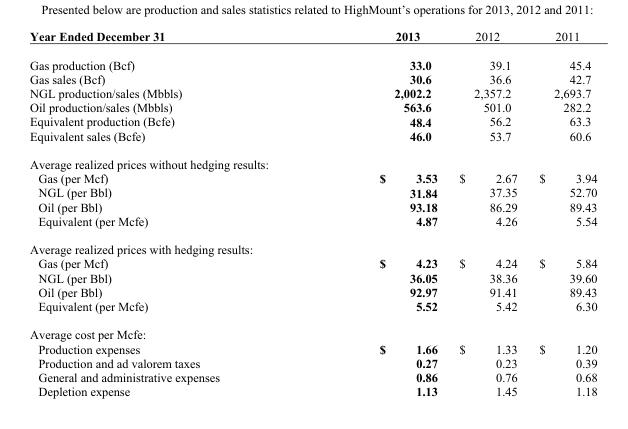table: (29, 28, 596, 397)
table column: (29, 28, 298, 397), (298, 28, 447, 397), (447, 28, 527, 397), (527, 28, 596, 397)
table column header: (29, 28, 596, 49)
table projected row header: (29, 234, 596, 256), (29, 149, 596, 170), (29, 320, 596, 341)
table row: (29, 49, 596, 71), (29, 234, 596, 256), (29, 298, 596, 320), (29, 28, 596, 49), (29, 128, 596, 149), (29, 149, 596, 170), (29, 213, 596, 234), (29, 320, 596, 341), (29, 99, 596, 114), (29, 170, 596, 185), (29, 71, 596, 85), (29, 85, 596, 99), (29, 114, 596, 128), (29, 185, 596, 199), (29, 199, 596, 213), (29, 256, 596, 270), (29, 270, 596, 284), (29, 284, 596, 298), (29, 341, 596, 355), (29, 355, 596, 369), (29, 369, 596, 383), (29, 383, 596, 397)
